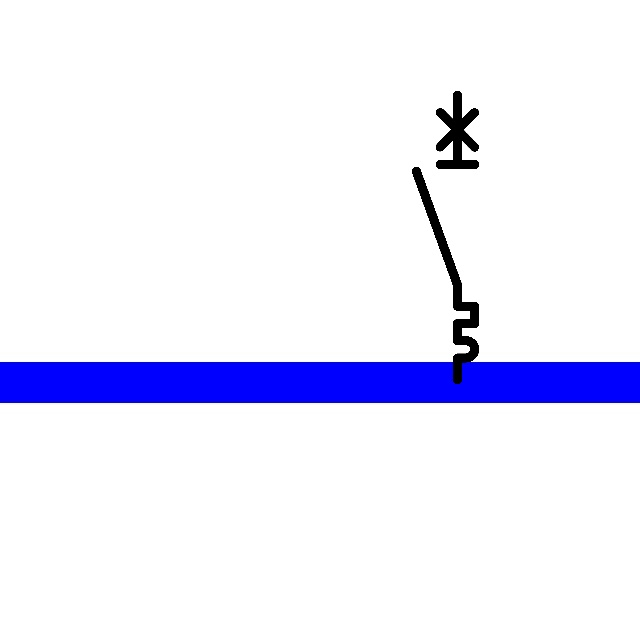interruptor_termomagnetico: (409, 88, 482, 387)
